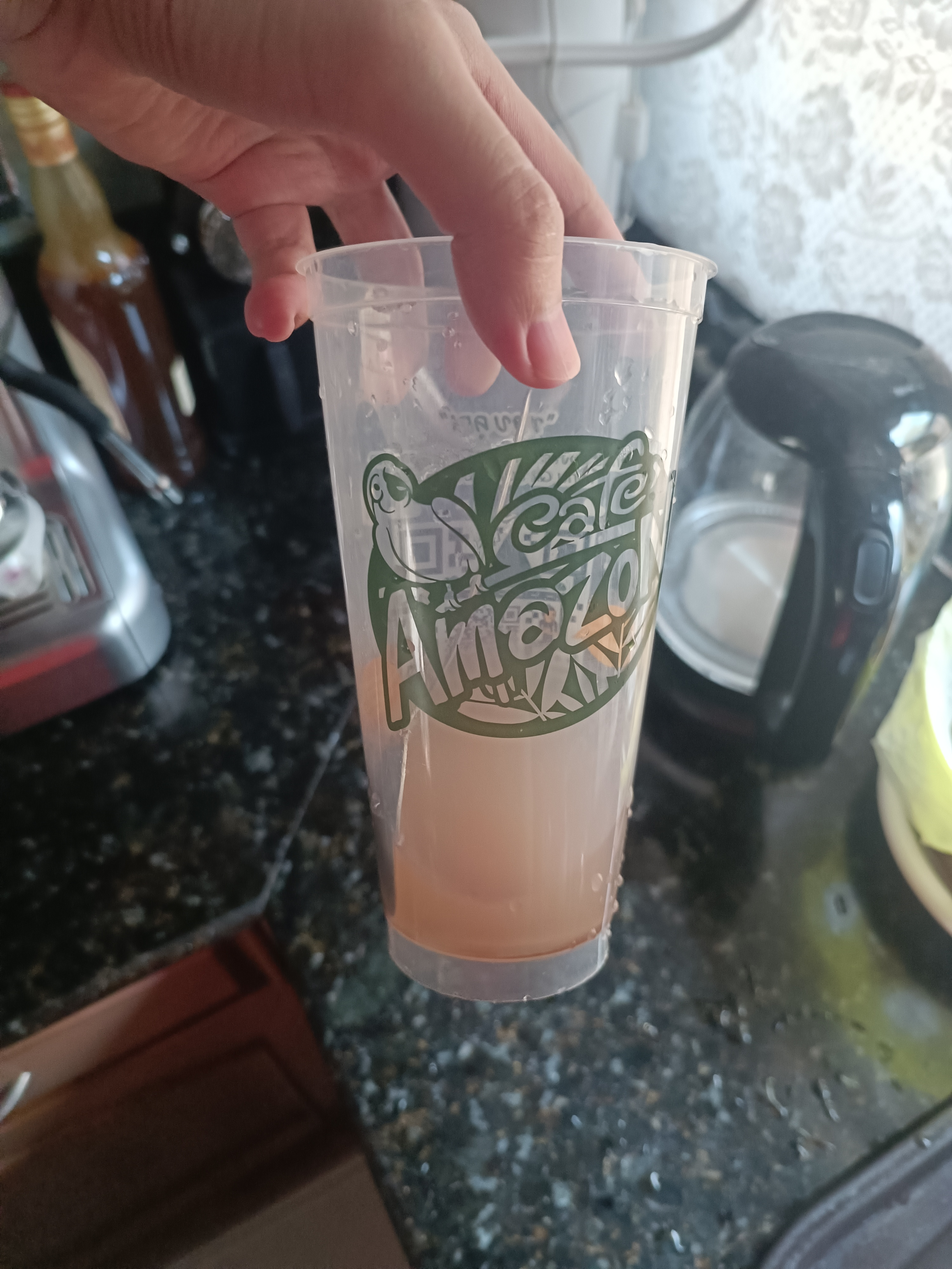plastic: (262, 209, 747, 1013)
